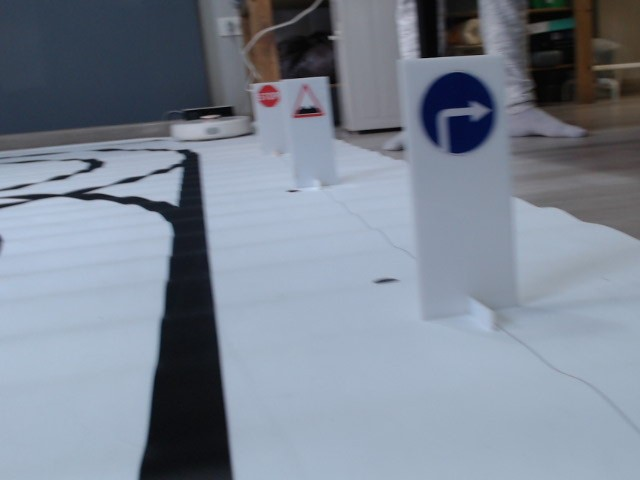Nerov: (291, 84, 324, 121)
Right: (418, 70, 497, 156)
